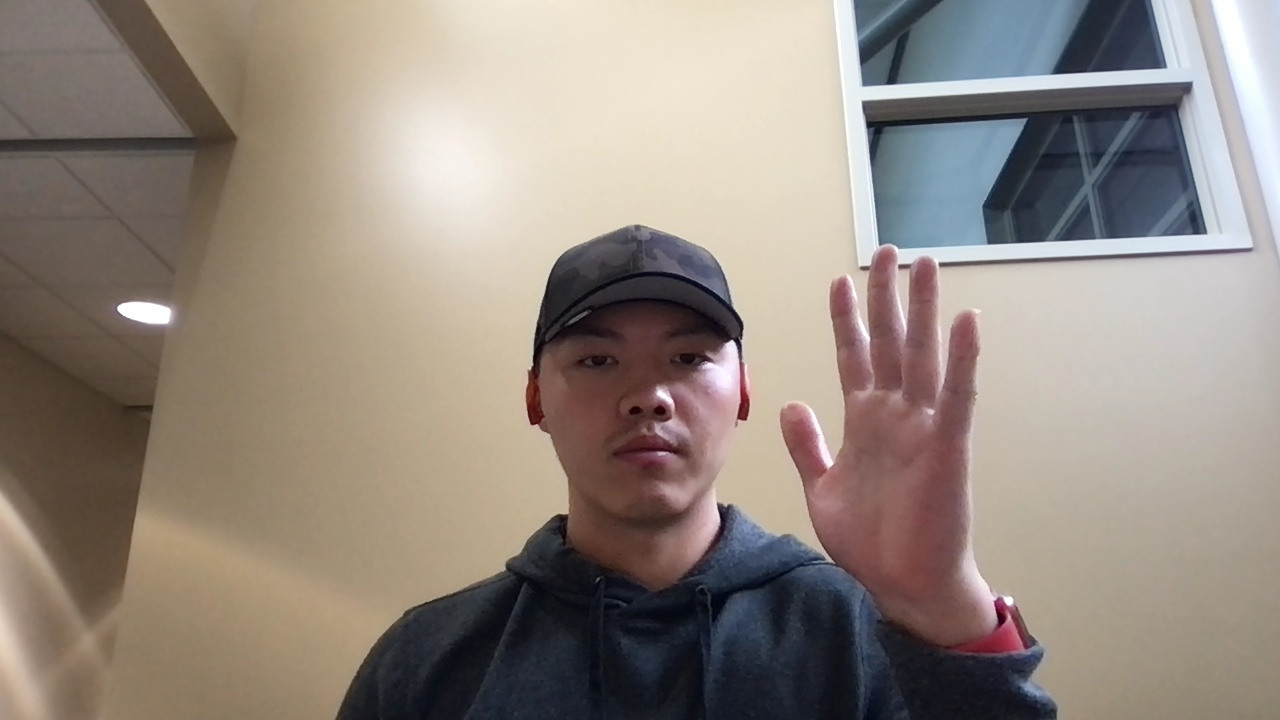Hello: (774, 243, 989, 603)
